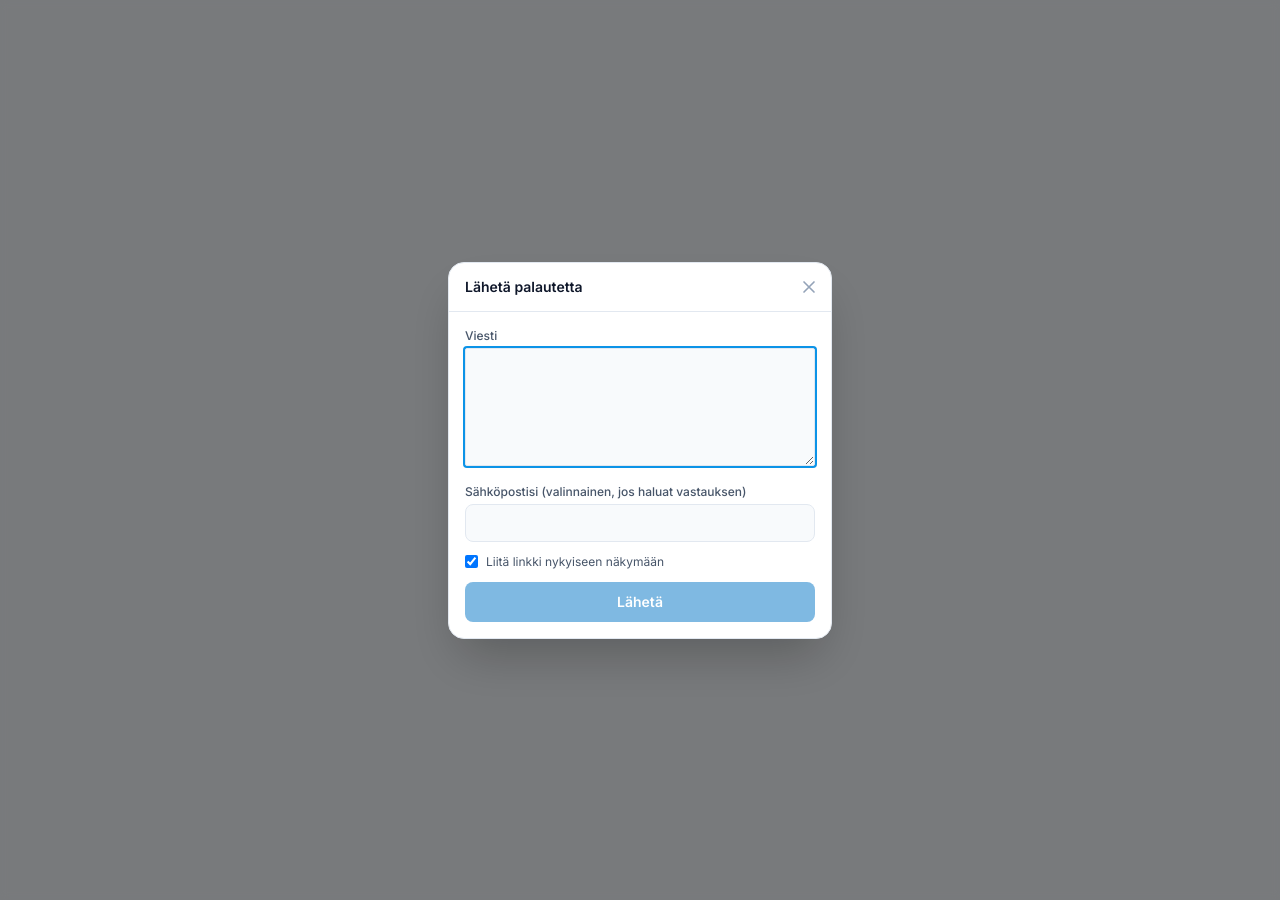
FeedbackModal › on failure, keeps the message and names the address to write to instead
Type "hello" into the text box labelled "Viesti" at {"x": 640, "y": 406}, box [465, 348, 815, 466]
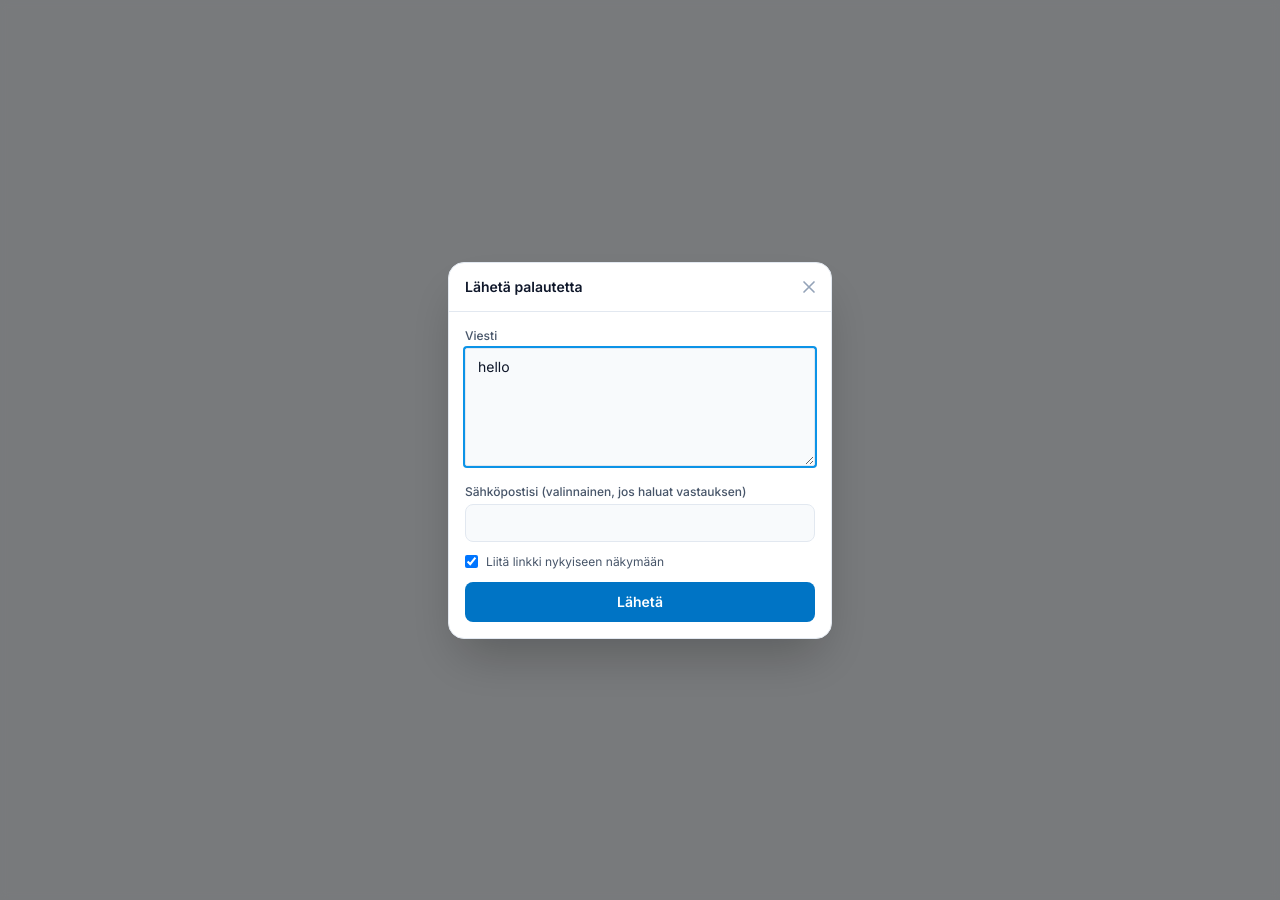
Click the button "Lähetä" at {"x": 640, "y": 602}, box [465, 582, 815, 622]
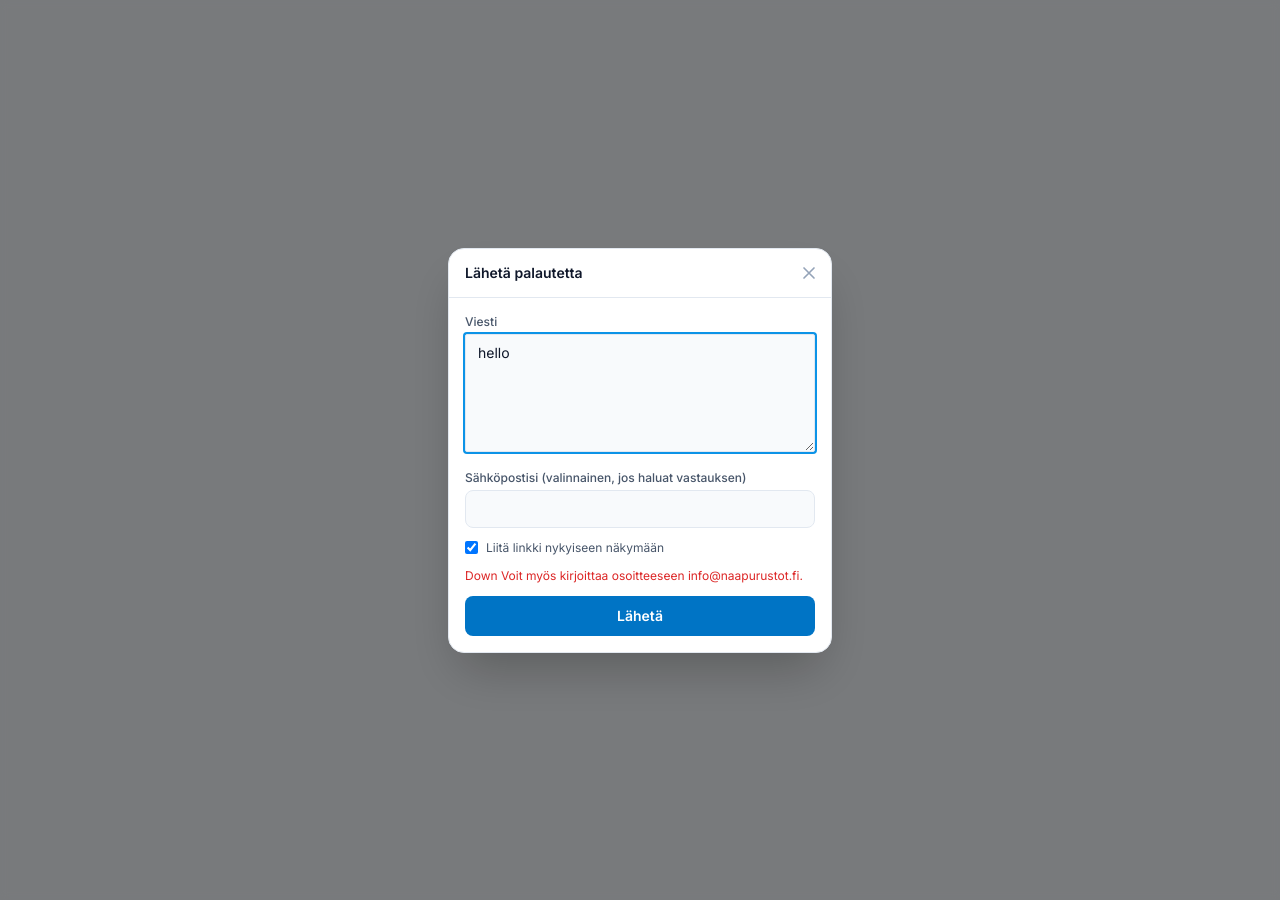
Expected: the message shows "info@naapurustot.fi", [501, 568, 803, 582]
